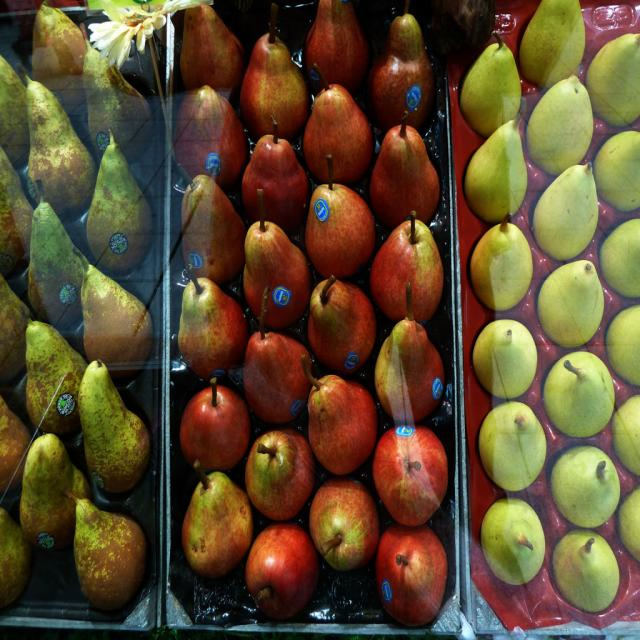pear: (175, 0, 447, 619), (460, 0, 640, 640), (0, 0, 159, 617)
